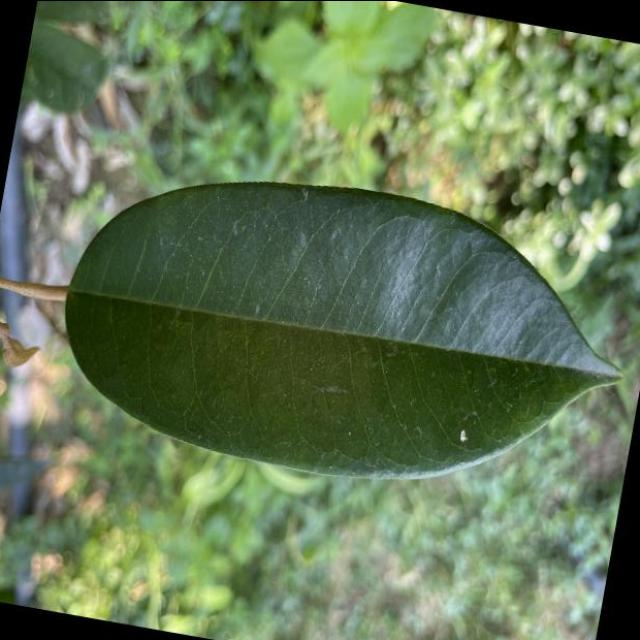No Disease: (31, 129, 640, 531)
